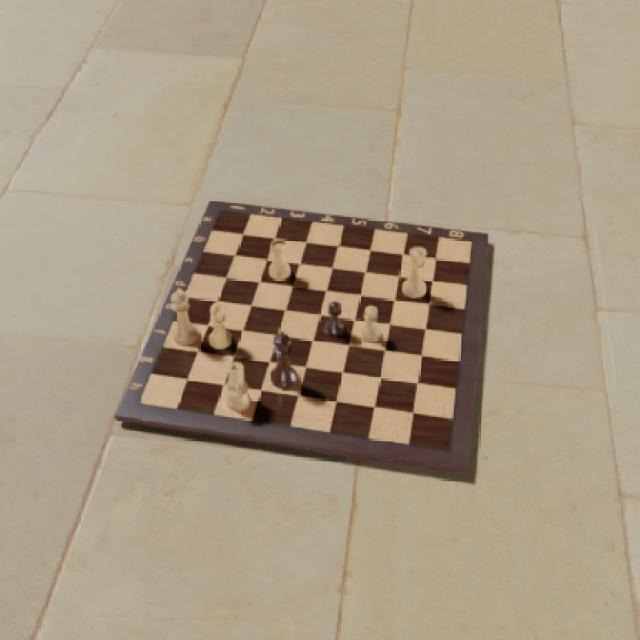black-king: (267, 329, 301, 391)
black-pawn: (320, 299, 348, 339)
white-bishop: (205, 300, 235, 352)
white-king: (169, 288, 202, 348)
white-knight: (223, 360, 254, 416)
white-pawn: (358, 303, 382, 345)
white-queen: (399, 245, 429, 300)
white-rook: (264, 238, 294, 282)
